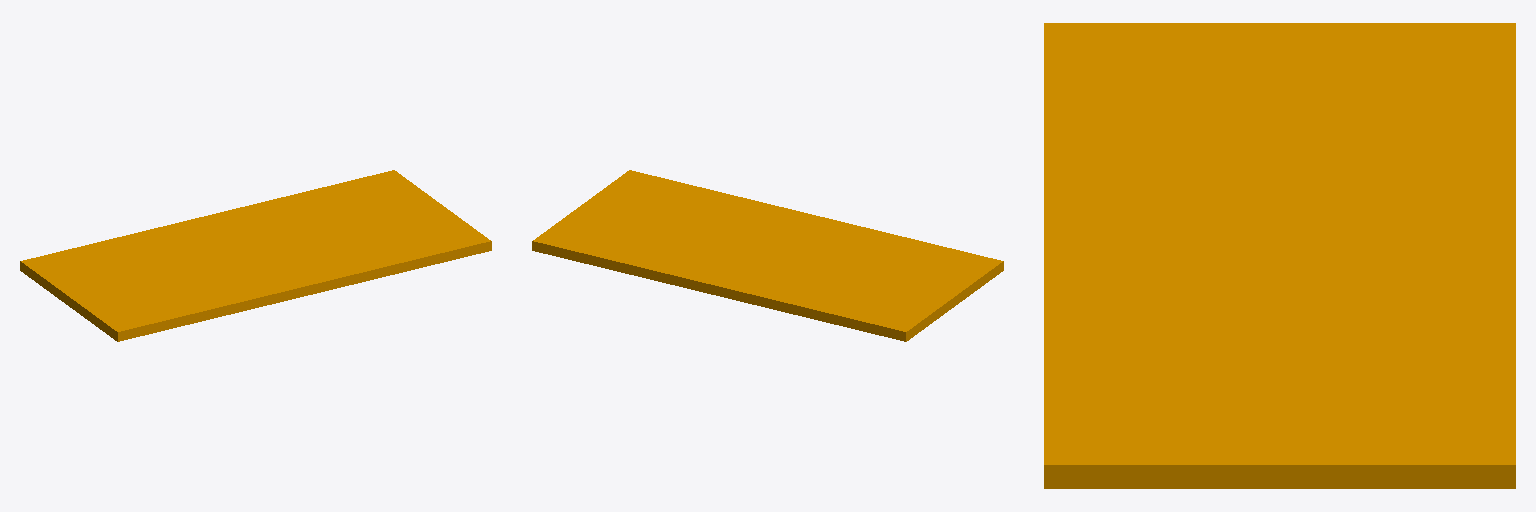
The robot description file, URDF, robot "block":
<?xml version="1.0"?>
<robot name="block">

<link name="base_link">

  <collision>
    <origin xyz="0 0 0" rpy="0 0 0"/>
    <geometry>
      <box size="0.10 0.045 0.0025" />
    </geometry>
  </collision>

  <visual>
    <origin xyz="0 0 0" rpy="0 0 0"/>
    <geometry>
      <box size="0.10 0.045 0.0025" />
    </geometry>
  </visual>

  <inertial>
   <origin xyz="0 0 0" rpy="0 0 0"/>
   <mass value="0.4" />
   <inertia
      ixx="0.0001" ixy="0.0"  ixz="0.0"
      iyy="0.0001" iyz="0.0"  izz="0.0" />
  </inertial>

</link>

<gazebo reference="base_link">
  <mu1>100</mu1>
  <mu2>100</mu2>
  <kp>2147483647</kp>
  <kd>1</kd>
  <maxVel>0</maxVel>
  <minDepth>0.001</minDepth>
  <material>Gazebo/Red</material>
</gazebo>

</robot>

--- Render facts (derived) ---
Views: 3 orthographic renders of the robot side by side, from view 1: azimuth 30°, elevation 25°; view 2: azimuth 150°, elevation 25°; view 3: azimuth 270°, elevation 25°.
Robot: block — 1 links, 0 joints (none); root link base_link; default pose: every joint at zero.
Visible links, largest first — view 1: base_link; view 2: base_link; view 3: base_link.
Boxes of the visible links, x1,y1,x2,y2 form: base_link: [20, 170, 491, 341]; base_link: [532, 170, 1003, 341]; base_link: [1044, 23, 1515, 488].
Bounding box of the posed robot: 0.1 × 0.045 × 0.0025 m (x, y, z).
Geometry: primitives only (box / cylinder / sphere), no mesh files.
